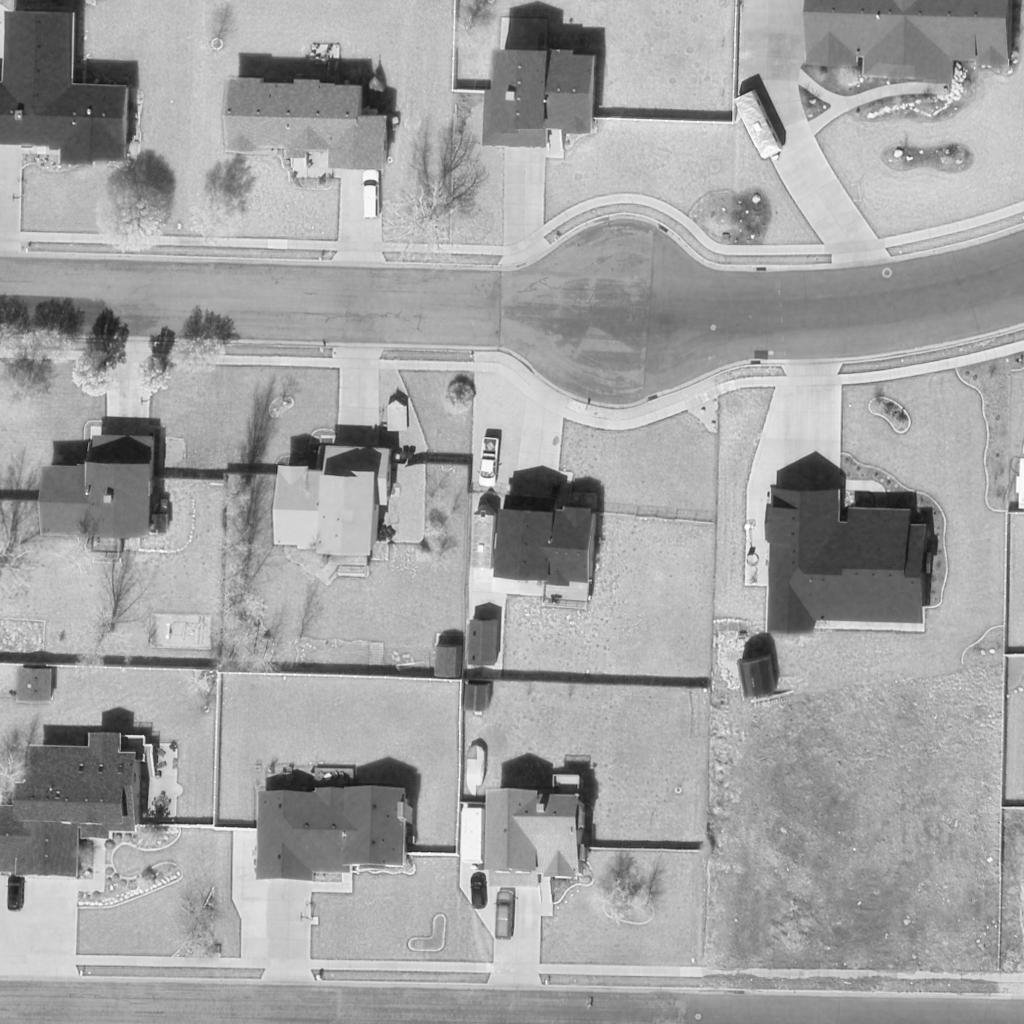vehicle: (733, 91, 785, 163), (466, 509, 498, 569), (477, 435, 505, 485), (462, 808, 484, 862), (365, 170, 385, 218), (494, 894, 514, 940), (5, 875, 25, 909), (469, 875, 489, 909)
